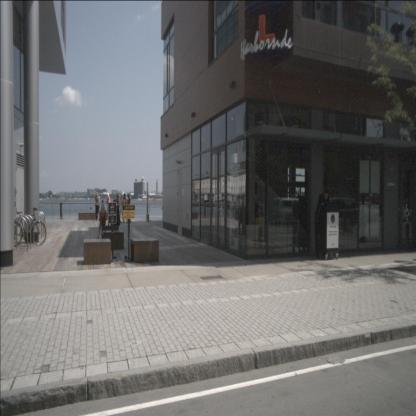human-pedestrian-adult: (110, 199, 121, 237), (96, 204, 107, 240), (121, 193, 127, 224), (126, 194, 132, 224), (94, 192, 100, 222), (115, 194, 120, 224), (119, 194, 124, 223), (106, 193, 110, 217)
vehicle-car: (317, 195, 359, 235), (272, 197, 308, 226), (352, 201, 380, 222)
